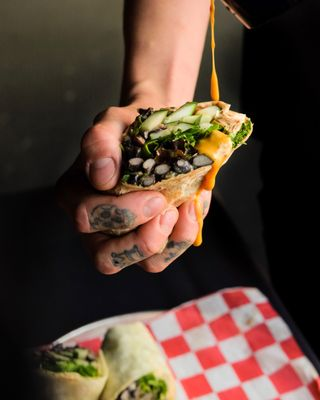curry: (14, 284, 320, 399)
